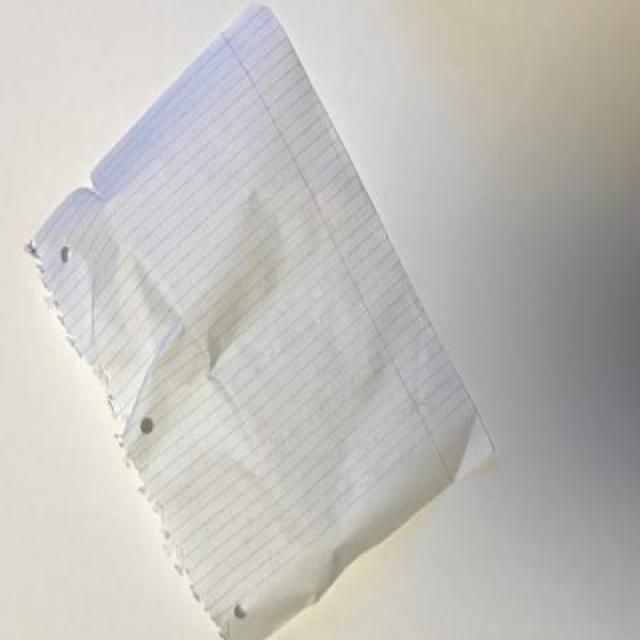kertas: (21, 1, 498, 640)
